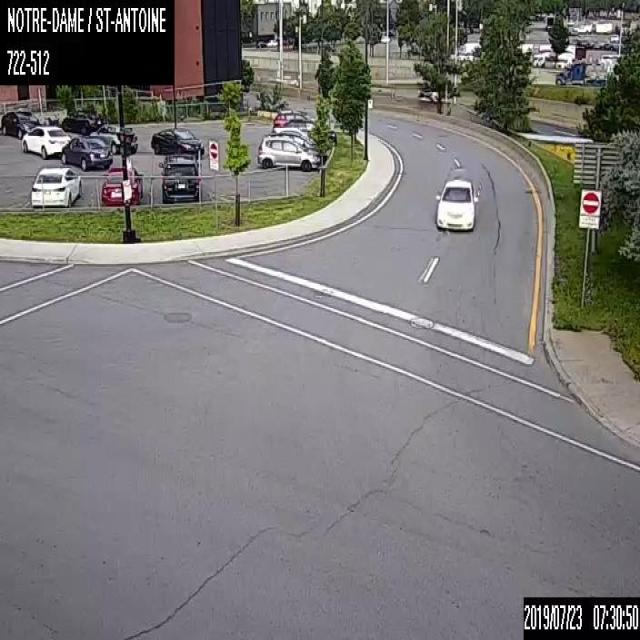vehicle: (257, 132, 321, 172), (31, 164, 82, 207), (158, 155, 203, 203), (436, 179, 479, 228), (101, 165, 144, 205), (61, 134, 112, 167), (150, 126, 206, 156), (21, 125, 71, 158), (554, 61, 610, 88), (286, 116, 336, 145), (91, 123, 137, 153), (1, 109, 40, 137), (272, 124, 316, 148), (62, 110, 106, 132), (272, 109, 308, 124)
